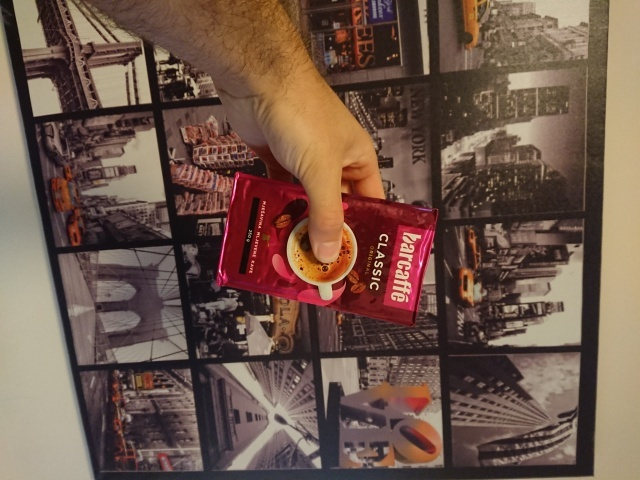Barcaffe Classic Original 225g: (213, 169, 442, 330)
